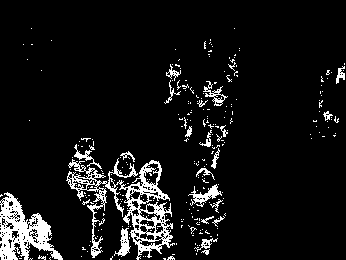person: (63, 135, 109, 258), (126, 158, 174, 259), (104, 149, 138, 259), (186, 167, 222, 257), (159, 62, 198, 143), (199, 79, 233, 171)
